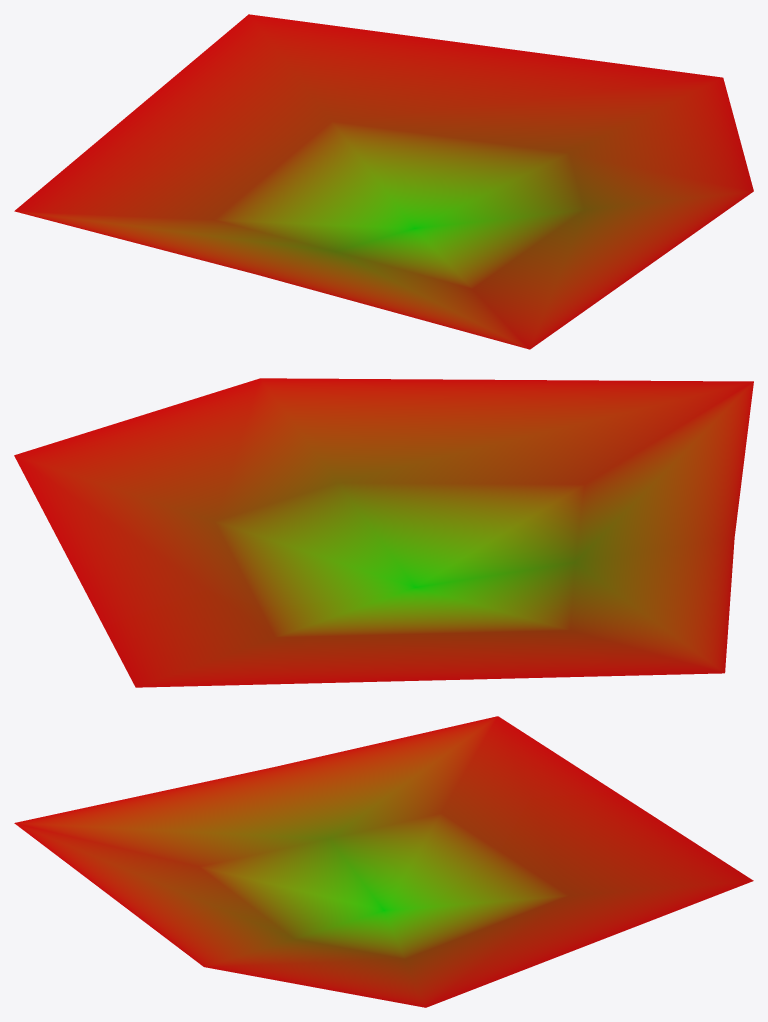
Rendered from Var30_LOD3.fbx.
3 renders of one model, top to bottom at view 1: azimuth 30°, elevation 25°; view 2: azimuth 150°, elevation 25°; view 3: azimuth 270°, elevation 25°, orthographic. The views are drawn at different scales.
Visible parts, largest first — view 1: _74ij_Var30_LOD3; view 2: _74ij_Var30_LOD3; view 3: _74ij_Var30_LOD3.
Part boxes in pixels (x1,y1,x2,y2): _74ij_Var30_LOD3: (14, 14, 753, 349); _74ij_Var30_LOD3: (14, 378, 753, 687); _74ij_Var30_LOD3: (14, 716, 753, 1007).
Bounding box in the file's own units: 20.85 × 1.58 × 22.34.
